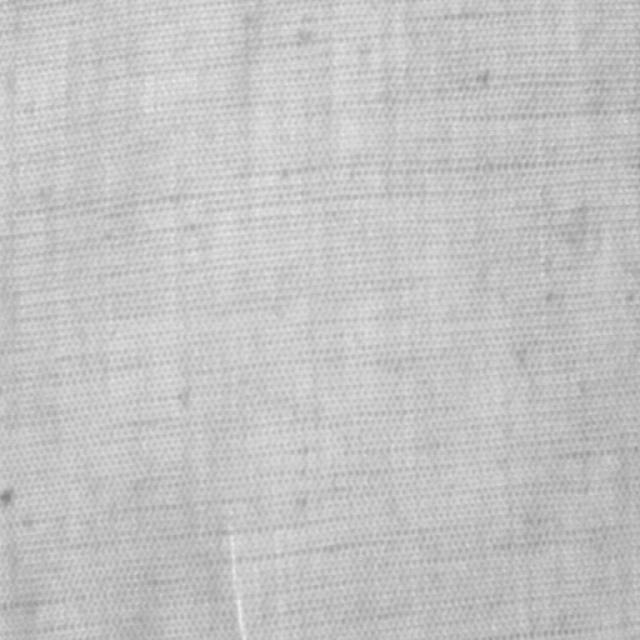hole: (225, 509, 248, 639)
